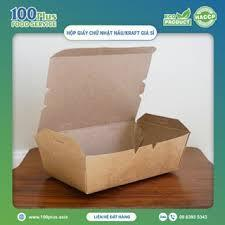box: (33, 45, 191, 194)
